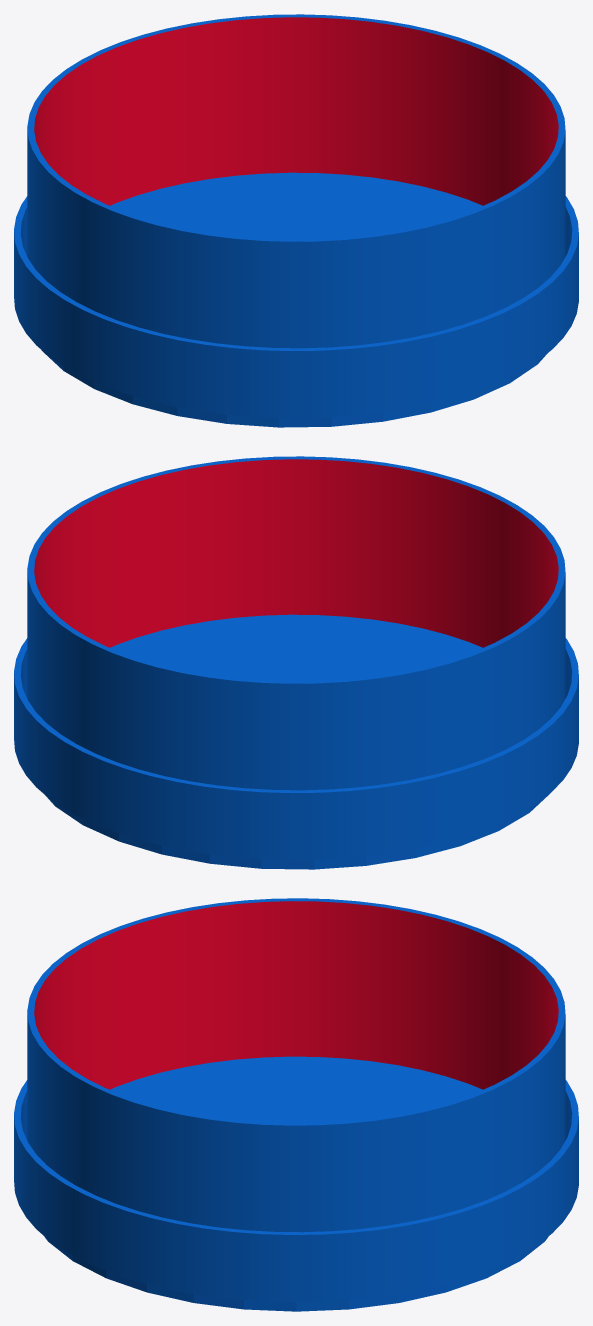
The model's file is blue_tin.dae.
The picture shows the model from 3 angles, top to bottom: view 1: azimuth 30°, elevation 25°; view 2: azimuth 150°, elevation 25°; view 3: azimuth 270°, elevation 25°; orthographic projection.
Parts seen in each view (by area): view 1: SketchUp.001, SketchUp, SketchUp.002, Cylinder, SketchUp.003; view 2: SketchUp.001, SketchUp, SketchUp.002, Cylinder, SketchUp.003; view 3: SketchUp.001, SketchUp, SketchUp.002, Cylinder, SketchUp.003.
Boxes of the visible parts, x1,y1,x2,y2 form: SketchUp.001: (34,17,558,205); SketchUp: (27,14,565,348); SketchUp.002: (14,196,578,418); Cylinder: (41,172,547,427); SketchUp.003: (20,207,572,256); SketchUp.001: (34,459,558,647); SketchUp: (27,456,565,790); SketchUp.002: (14,638,578,860); Cylinder: (45,614,550,869); SketchUp.003: (20,649,572,698); SketchUp.001: (34,901,558,1089); SketchUp: (27,898,565,1232); SketchUp.002: (14,1080,578,1301); Cylinder: (44,1056,548,1311); SketchUp.003: (20,1091,572,1139).
Size of the model in its own units: 0.084 by 0.084 by 0.0305.
